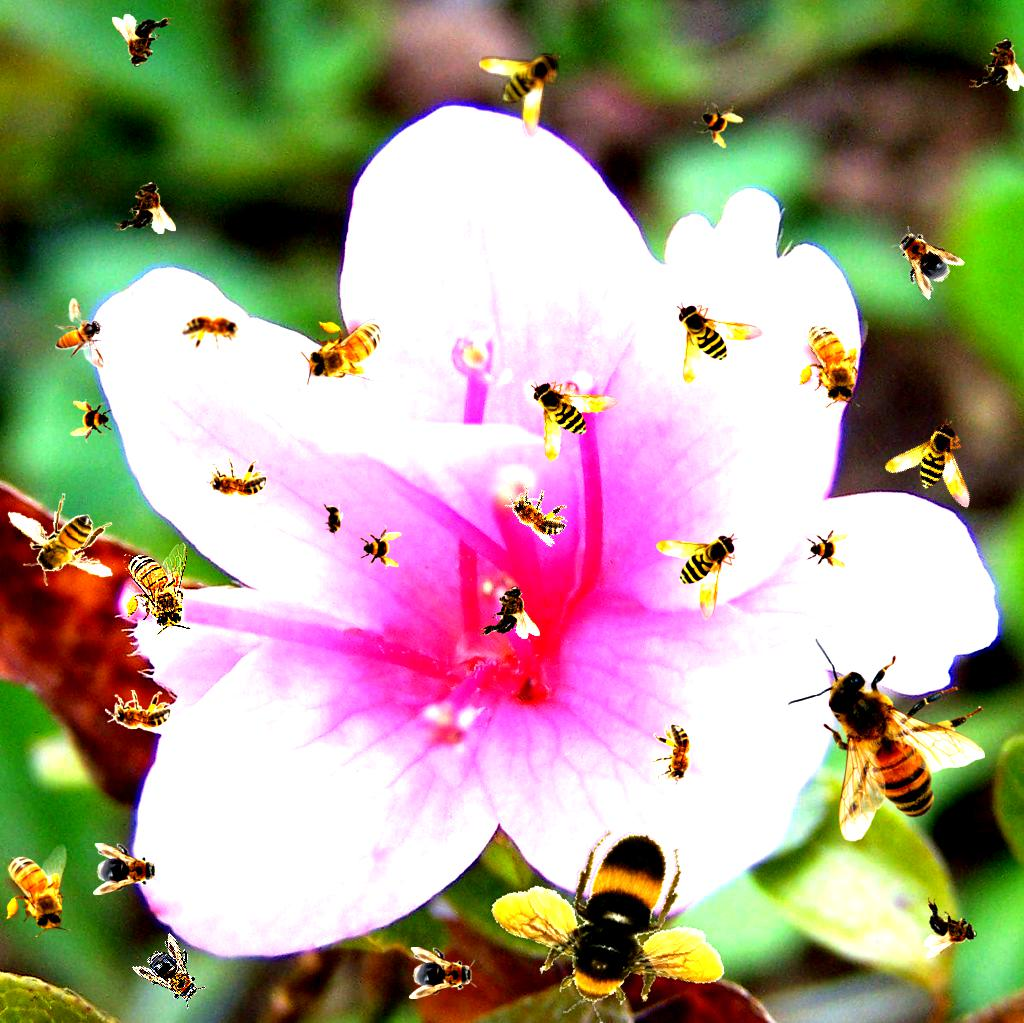Bee: (480, 814, 730, 1023), (786, 638, 985, 842), (879, 416, 995, 534), (1, 488, 120, 592), (529, 370, 627, 464), (792, 310, 874, 413), (880, 216, 966, 302), (131, 931, 217, 1017), (656, 533, 738, 621), (676, 302, 764, 384), (479, 51, 561, 139), (301, 318, 394, 386), (3, 844, 71, 937), (123, 542, 191, 635), (496, 476, 576, 549), (688, 92, 748, 152), (55, 298, 105, 369), (93, 843, 161, 895), (409, 947, 477, 999), (112, 14, 174, 67), (114, 181, 176, 234), (924, 897, 977, 959), (478, 586, 540, 639), (182, 309, 248, 354), (201, 458, 267, 503), (105, 690, 171, 735), (652, 724, 697, 790), (969, 38, 1024, 91), (805, 526, 849, 570), (358, 525, 402, 569), (70, 399, 114, 443), (322, 500, 344, 540)
